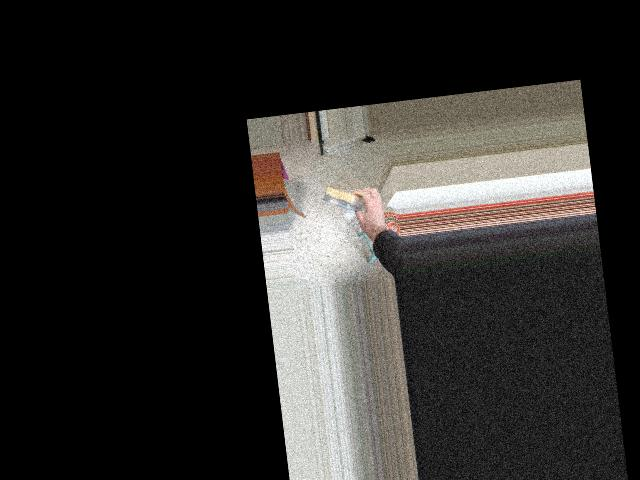cheese: (316, 165, 389, 226)
